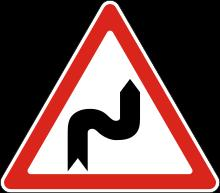Right Reverse Bend: (21, 21, 181, 177)
